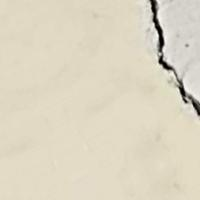crack: (128, 0, 199, 117)
